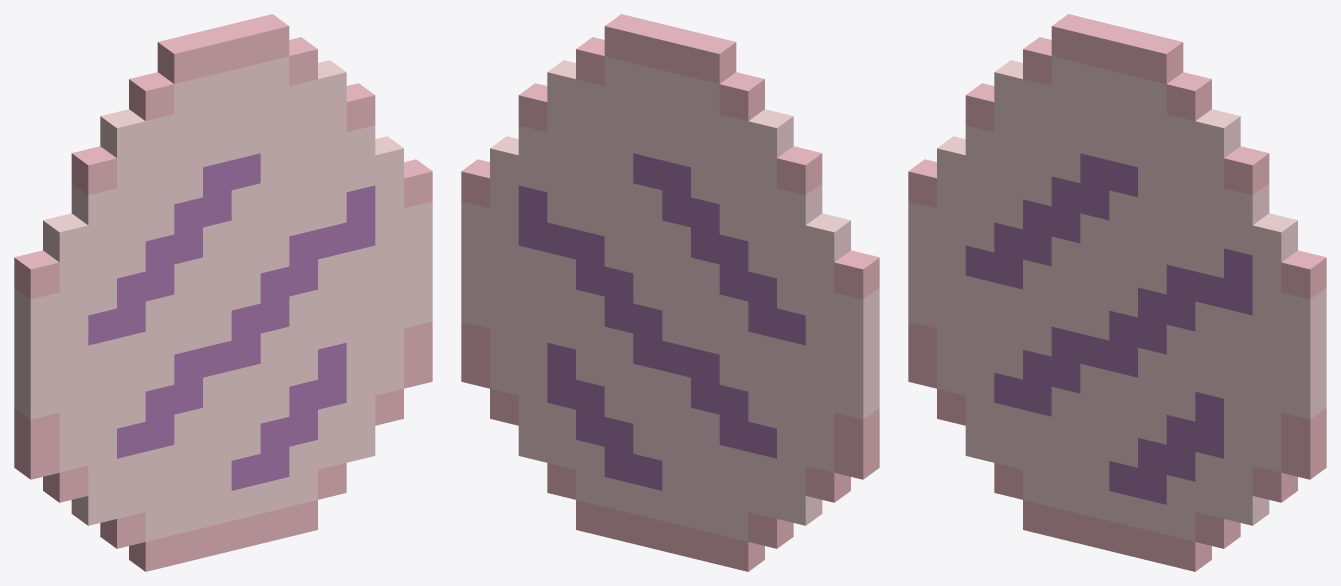
Rendered from stage0.obj.
The picture shows the model from 3 angles, left to right: view 1: azimuth 30°, elevation 25°; view 2: azimuth 150°, elevation 25°; view 3: azimuth 330°, elevation 25°; orthographic projection.
Bounding box in the file's own units: 14 × 17 × 1.
Materials: 1 (1 with a texture image).
